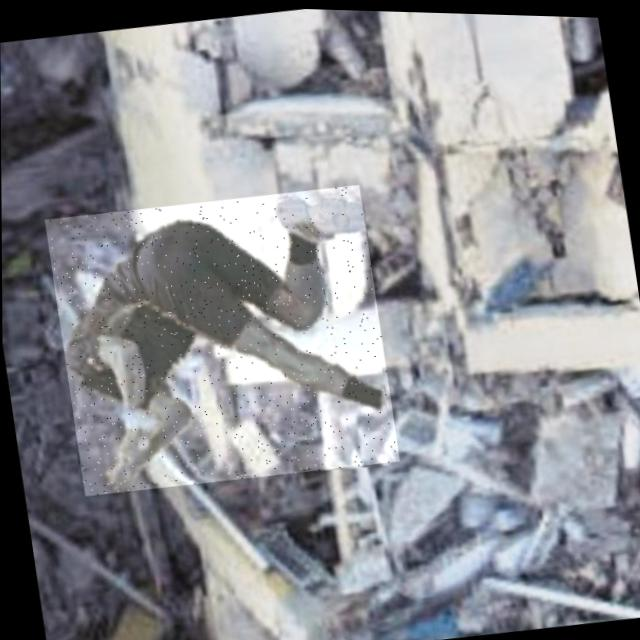Person in Rubble: (44, 174, 400, 502)
